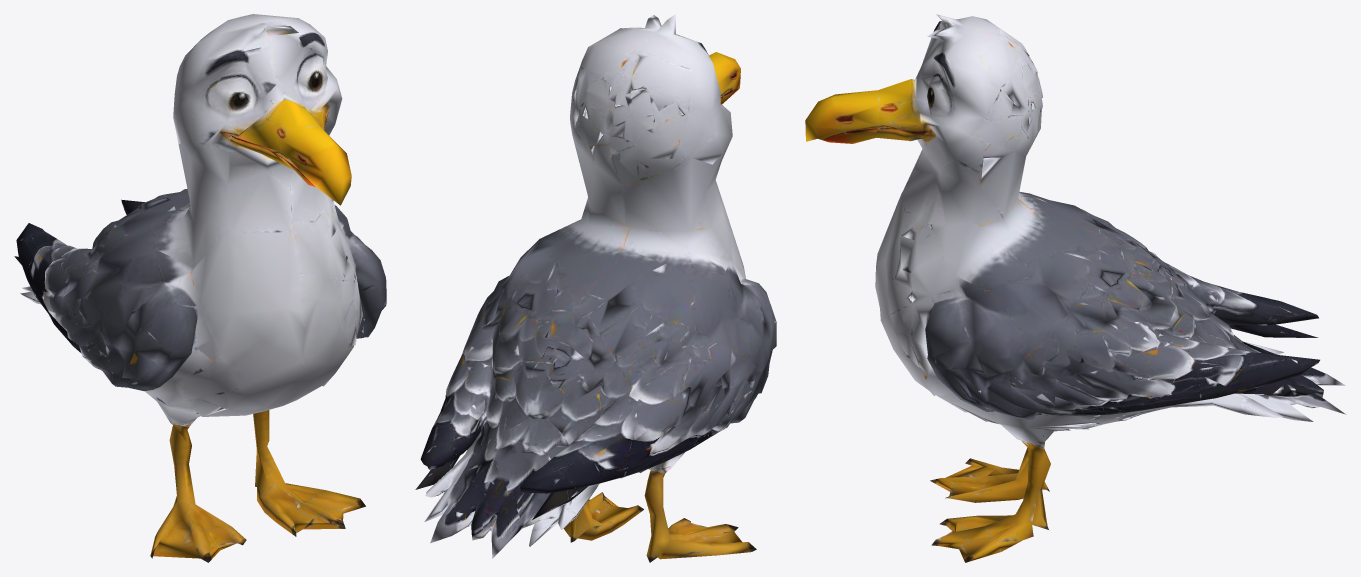
The model's file is gull.glb.
3 renders of one model, left to right at view 1: azimuth 30°, elevation 25°; view 2: azimuth 150°, elevation 25°; view 3: azimuth 270°, elevation 25°, orthographic. The views are drawn at different scales.
Bounding box in the file's own units: 0.997 × 1.9 × 1.88.
Materials: 1 (1 with a texture image).
